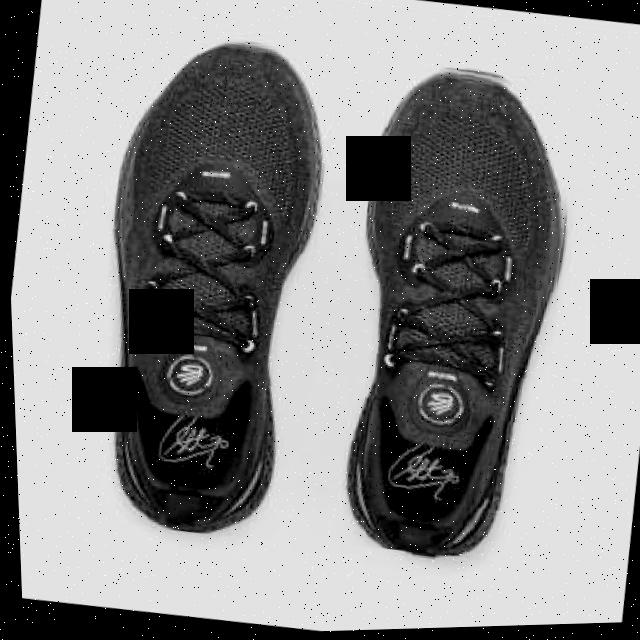shoe: (64, 23, 351, 550), (315, 56, 595, 573)
